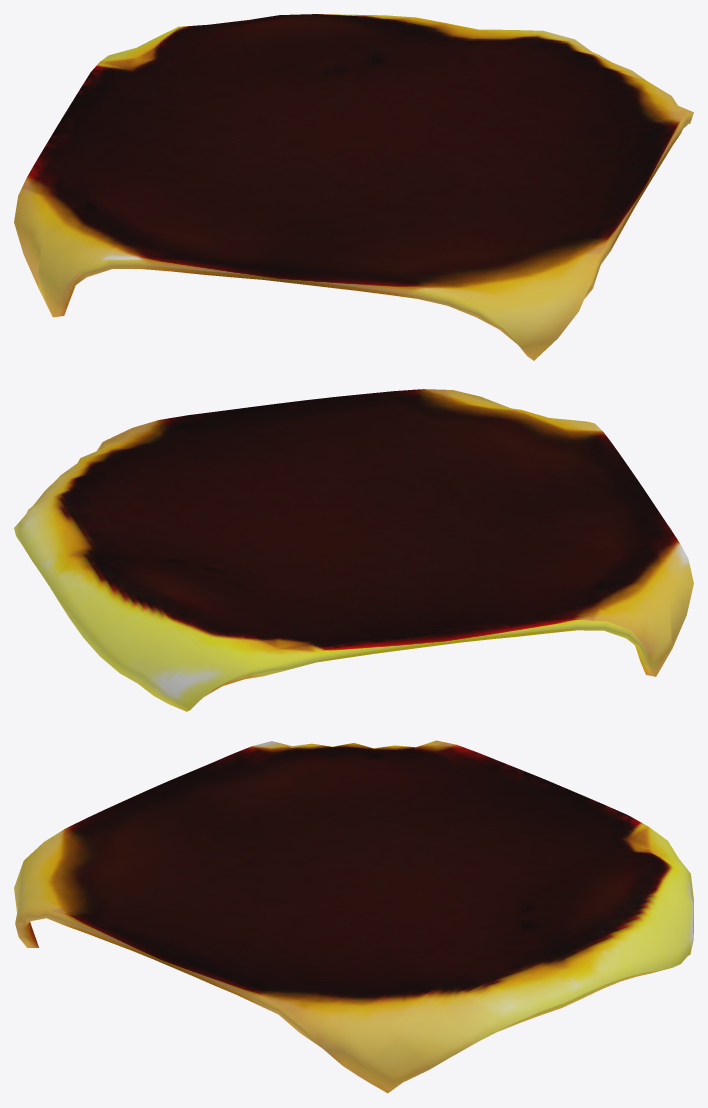
File: bun_cheese.glb
3 views of the same model, one above another, from view 1: azimuth 30°, elevation 25°; view 2: azimuth 150°, elevation 25°; view 3: azimuth 270°, elevation 25° (orthographic). The views are drawn at different scales.
Visible parts, largest first — view 1: cheez.001_8; view 2: cheez.001_8; view 3: cheez.001_8.
Part boxes in pixels (left/top/right/bottom): cheez.001_8: left=14, top=14, right=693, bottom=360; cheez.001_8: left=14, top=389, right=693, bottom=711; cheez.001_8: left=14, top=740, right=693, bottom=1093.
Bounding box in the file's own units: 0.6372 × 0.1003 × 0.634.
1 material, 1 textured.
